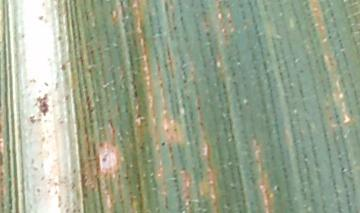tarspot: (35, 93, 50, 117), (58, 62, 68, 73), (27, 114, 36, 124), (86, 102, 94, 112), (98, 141, 106, 149), (274, 184, 281, 193), (163, 126, 170, 135), (167, 143, 173, 153), (204, 30, 211, 38), (101, 155, 108, 163), (135, 113, 143, 120), (123, 174, 130, 182), (63, 94, 71, 101), (136, 184, 143, 192), (31, 165, 38, 173), (55, 195, 63, 202), (81, 192, 89, 199), (115, 105, 121, 114), (54, 81, 60, 90), (70, 182, 75, 192), (159, 140, 166, 147), (171, 24, 178, 31), (37, 14, 44, 21), (138, 144, 145, 151), (195, 104, 201, 112), (132, 90, 138, 98), (56, 34, 62, 42), (198, 121, 204, 129), (172, 126, 178, 134), (71, 167, 77, 175), (38, 161, 44, 169), (57, 119, 65, 125), (84, 94, 90, 102), (182, 77, 188, 84), (186, 198, 192, 205), (86, 67, 92, 74), (39, 175, 45, 182), (52, 181, 59, 187), (277, 70, 284, 76), (335, 119, 342, 125), (241, 198, 247, 205), (337, 156, 344, 162), (280, 166, 287, 172), (282, 172, 289, 178), (342, 182, 348, 189), (221, 81, 226, 89), (29, 157, 34, 165), (82, 84, 88, 90), (226, 18, 232, 24), (339, 166, 345, 172), (326, 146, 332, 152), (88, 35, 94, 41), (46, 188, 52, 194), (168, 153, 174, 159), (225, 201, 231, 207), (163, 203, 169, 209), (347, 109, 353, 115), (131, 83, 137, 89), (123, 107, 129, 113), (158, 81, 163, 88), (179, 15, 184, 22), (88, 119, 95, 124), (302, 153, 307, 160), (89, 49, 94, 55), (162, 63, 168, 68), (231, 70, 236, 76), (43, 81, 49, 86), (40, 135, 45, 141), (36, 117, 41, 123), (19, 33, 25, 38), (327, 34, 332, 40), (96, 46, 102, 51), (35, 187, 40, 193), (57, 202, 62, 208), (64, 207, 69, 213), (172, 178, 178, 183), (298, 68, 304, 73), (334, 113, 340, 118), (51, 103, 56, 109), (1, 201, 5, 208), (230, 185, 235, 190), (41, 2, 46, 7), (71, 208, 76, 213), (77, 208, 82, 213), (106, 108, 111, 113), (345, 192, 350, 197), (1, 189, 4, 197), (171, 173, 177, 177), (171, 168, 177, 172), (1, 123, 3, 134), (32, 79, 36, 84), (1, 151, 2, 167), (1, 139, 3, 146), (28, 79, 31, 83), (1, 171, 3, 177)
